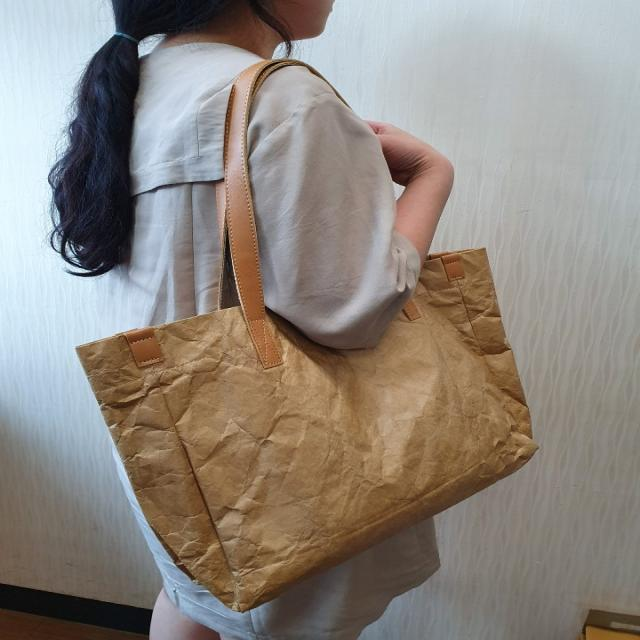ecobag: (42, 43, 550, 611)
